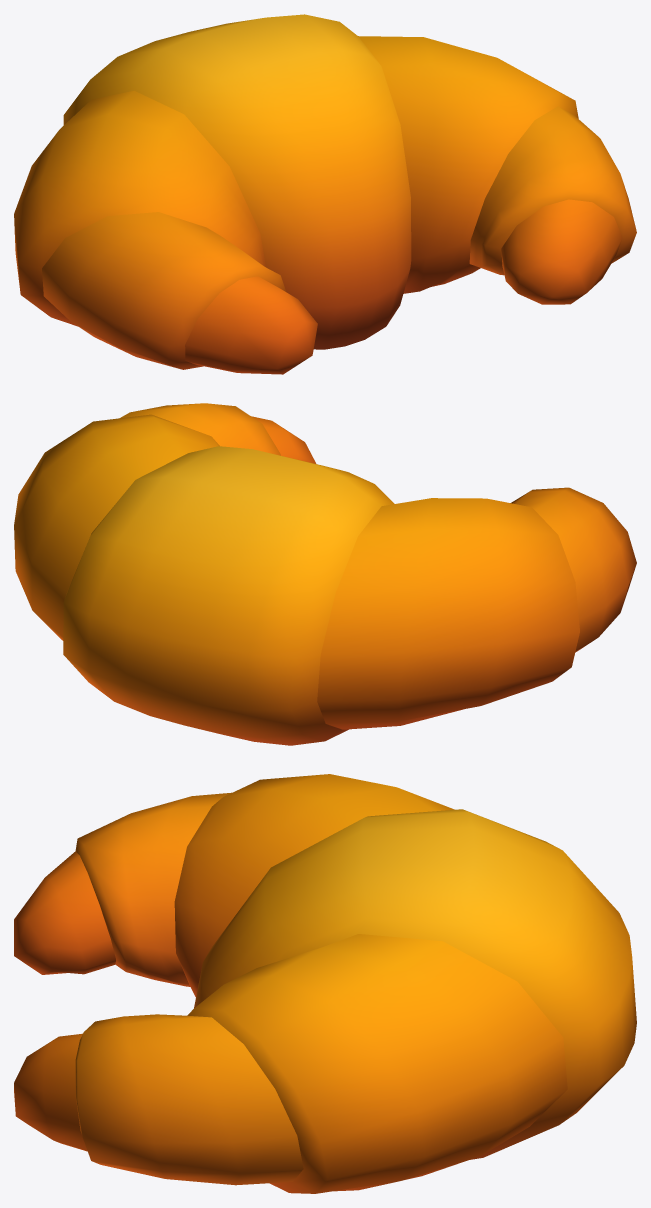
File: croissant_002.fbx
3 views of the same model, one above another, from view 1: azimuth 30°, elevation 25°; view 2: azimuth 150°, elevation 25°; view 3: azimuth 270°, elevation 25° (orthographic). The views are drawn at different scales.
Visible parts, largest first — view 1: croissant_002; view 2: croissant_002; view 3: croissant_002.
Boxes of the visible parts, <box> form: croissant_002: <box>14,14,636,374</box>; croissant_002: <box>14,403,636,745</box>; croissant_002: <box>14,774,636,1193</box>.
Bounding box in the file's own units: 14.6 × 12.2 × 6.44.
